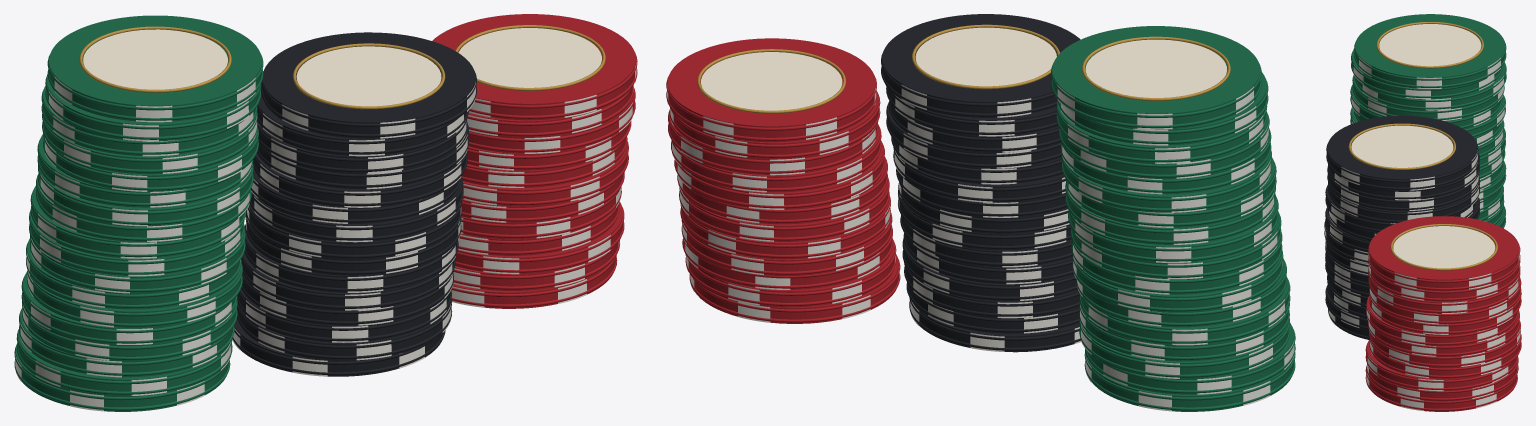
The model's file is poker-chips-mid.glb.
The picture shows the model from 3 angles, left to right: view 1: azimuth 30°, elevation 25°; view 2: azimuth 150°, elevation 25°; view 3: azimuth 270°, elevation 25°; orthographic projection. The views are drawn at different scales.
Parts seen in each view (by area): view 1: chip_body (×45), rim_groove (×87), face_inlay (×3), inlay_ring (×3); view 2: chip_body (×45), rim_groove (×87), face_inlay (×3), inlay_ring (×3); view 3: chip_body (×33), rim_groove (×44), face_inlay (×3), inlay_ring (×3), edge_spot_1 (×6), edge_spot_3 (×5), edge_spot_2 (×4), edge_spot_4 (×3), edge_spot_5 (×3), edge_spot_0.
Boxes of the visible parts, x1,y1,x2,y2 form: chip_body (×45): (16,14,635,411); rim_groove (×87): (14,52,637,410); face_inlay (×3): (83,28,601,106); inlay_ring (×3): (79,25,605,109); chip_body (×45): (667,14,1294,411); rim_groove (×87): (666,51,1295,410); face_inlay (×3): (701,27,1226,110); inlay_ring (×3): (697,24,1230,113); chip_body (×33): (1325,14,1520,411); rim_groove (×44): (1325,41,1521,410); face_inlay (×3): (1351,24,1495,268); inlay_ring (×3): (1348,22,1497,270); edge_spot_1 (×6): (1395,191,1491,377); edge_spot_3 (×5): (1409,77,1450,334); edge_spot_2 (×4): (1400,87,1501,410); edge_spot_4 (×3): (1401,285,1493,398); edge_spot_5 (×3): (1401,282,1497,356); edge_spot_0: (1394,272,1416,288).
Bounding box in the file's own units: 0.1278 × 0.0611 × 0.0512.
